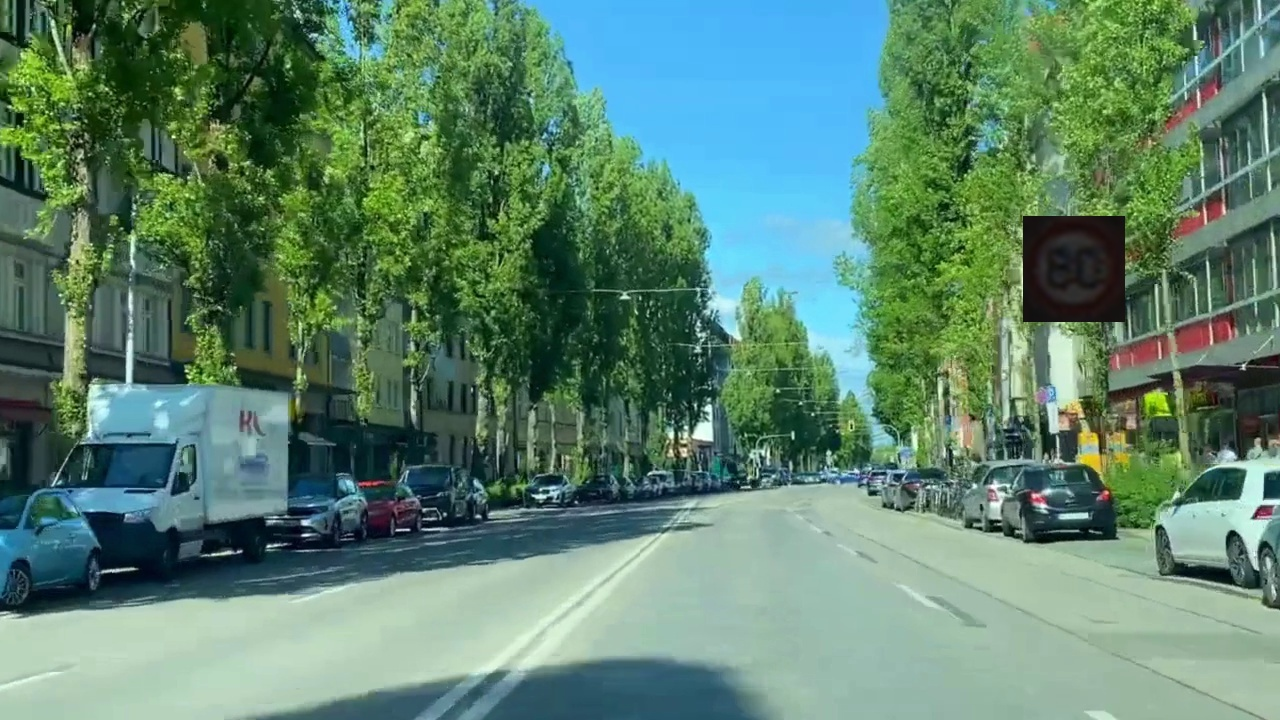Speed 80: (1023, 216, 1125, 322)
